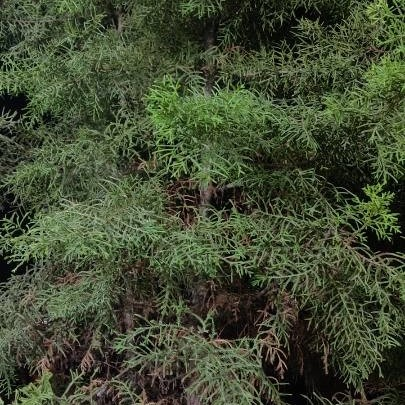obstacle: (28, 29, 334, 351)
